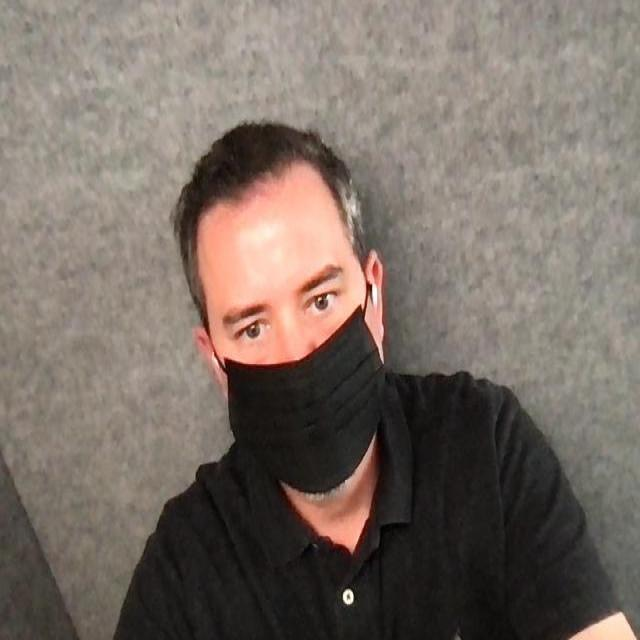no-helmet: (172, 120, 393, 499)
